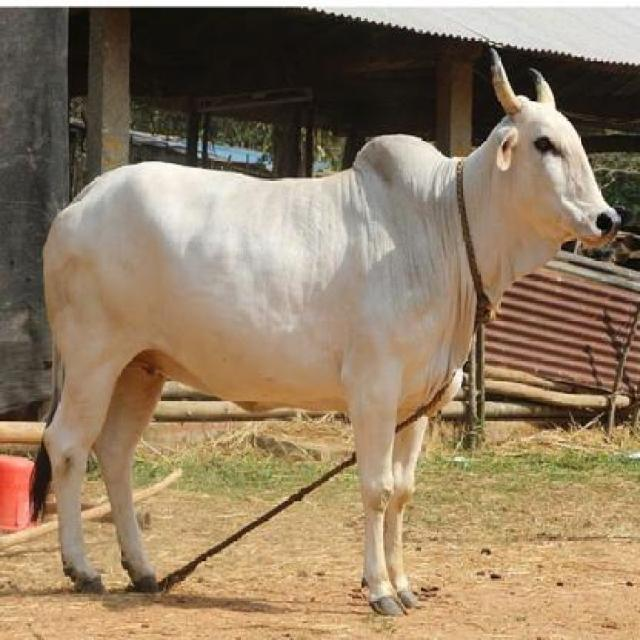Cow: (31, 48, 623, 615)
